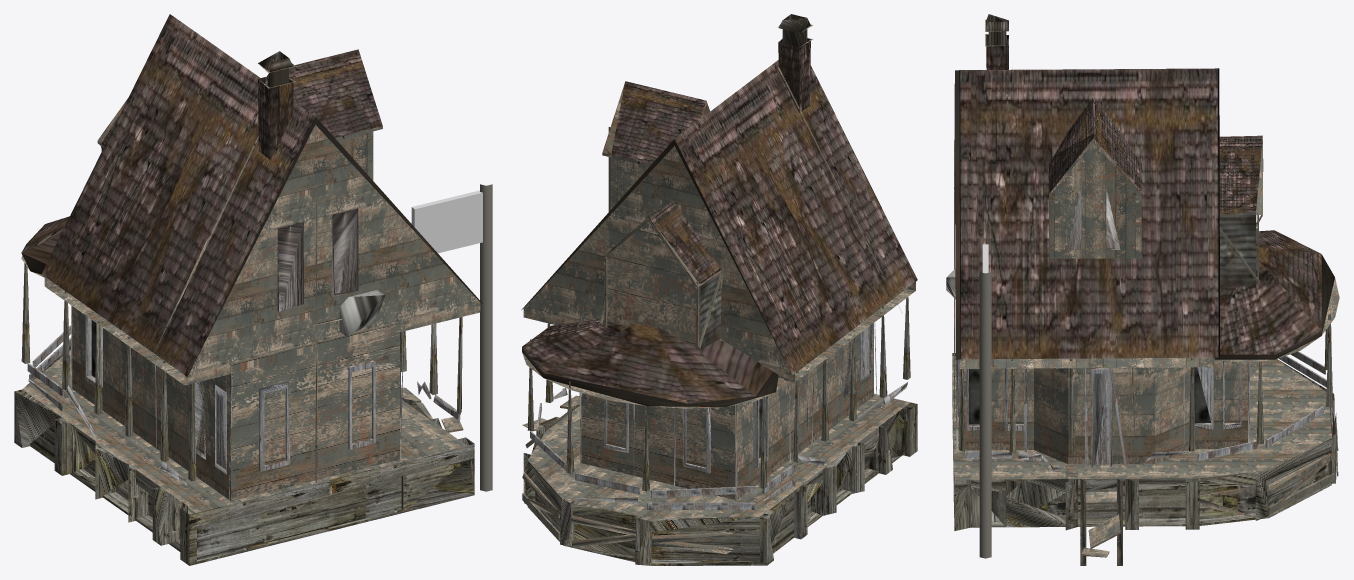
3 renders of one model, left to right at view 1: azimuth 30°, elevation 25°; view 2: azimuth 150°, elevation 25°; view 3: azimuth 270°, elevation 25°, orthographic. The views are drawn at different scales.
Parts seen in each view (by area): view 1: dweller_building_housing; view 2: dweller_building_housing; view 3: dweller_building_housing.
Boxes of the visible parts, x1,y1,x2,y2 form: dweller_building_housing: (14,14,492,565); dweller_building_housing: (521,14,917,565); dweller_building_housing: (946,14,1339,565).
Size of the model in its own units: 2 by 2.5 by 2.
6 materials, 4 textured.
